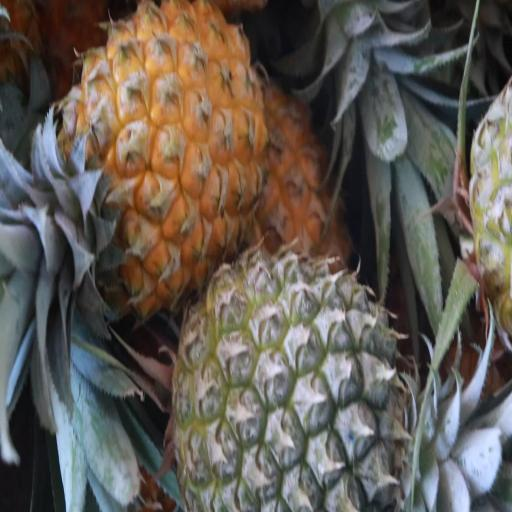Pineapple - v8 v1: (67, 0, 267, 303)
